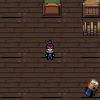Hide: (41, 0, 63, 17), (80, 20, 100, 36)
Obstacle: (80, 0, 100, 17)
Victim: (41, 39, 58, 61)
Win: (80, 74, 100, 99)
